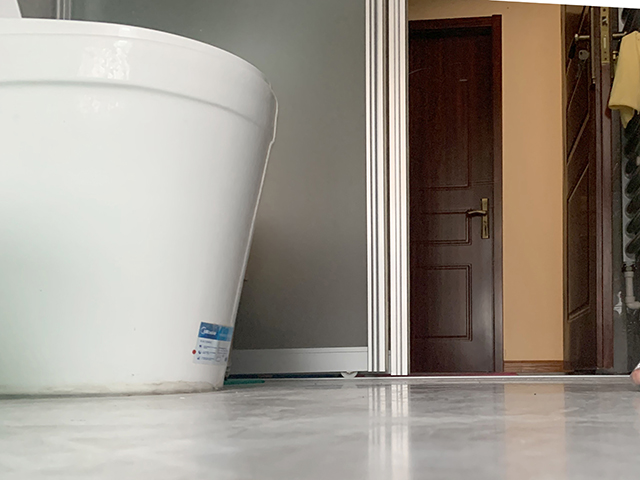closestool: (1, 1, 278, 399)
